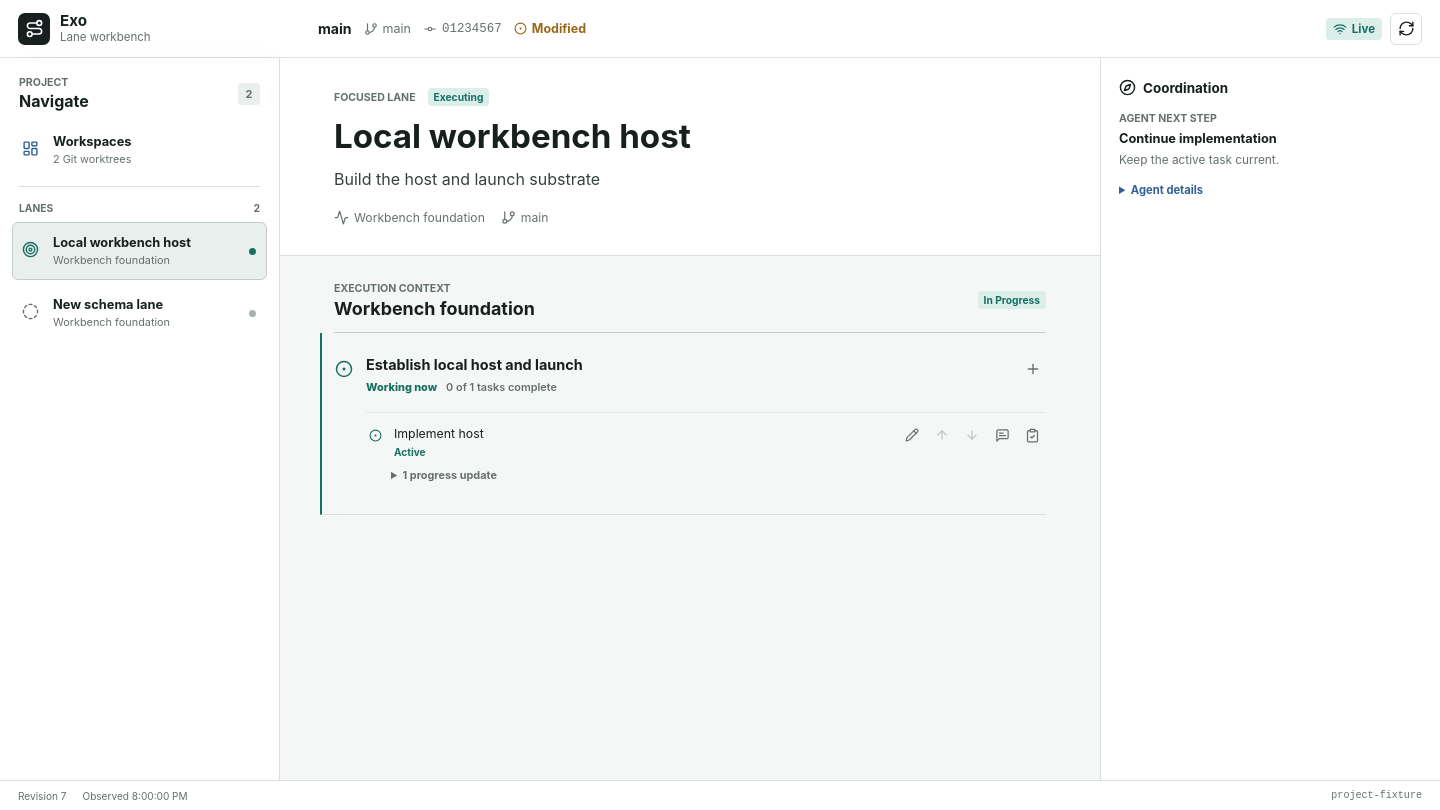
cockpit page › requires a reload when lane inspection uses a newer schema
This screenshot has width=1440, height=810.
Expected: the heading "Local workbench host" is shown, [334,116,691,156]
Click the button with aria-label "Inspect New schema lane, phase in progress".
click(140, 313)  # box [12,284,267,342]
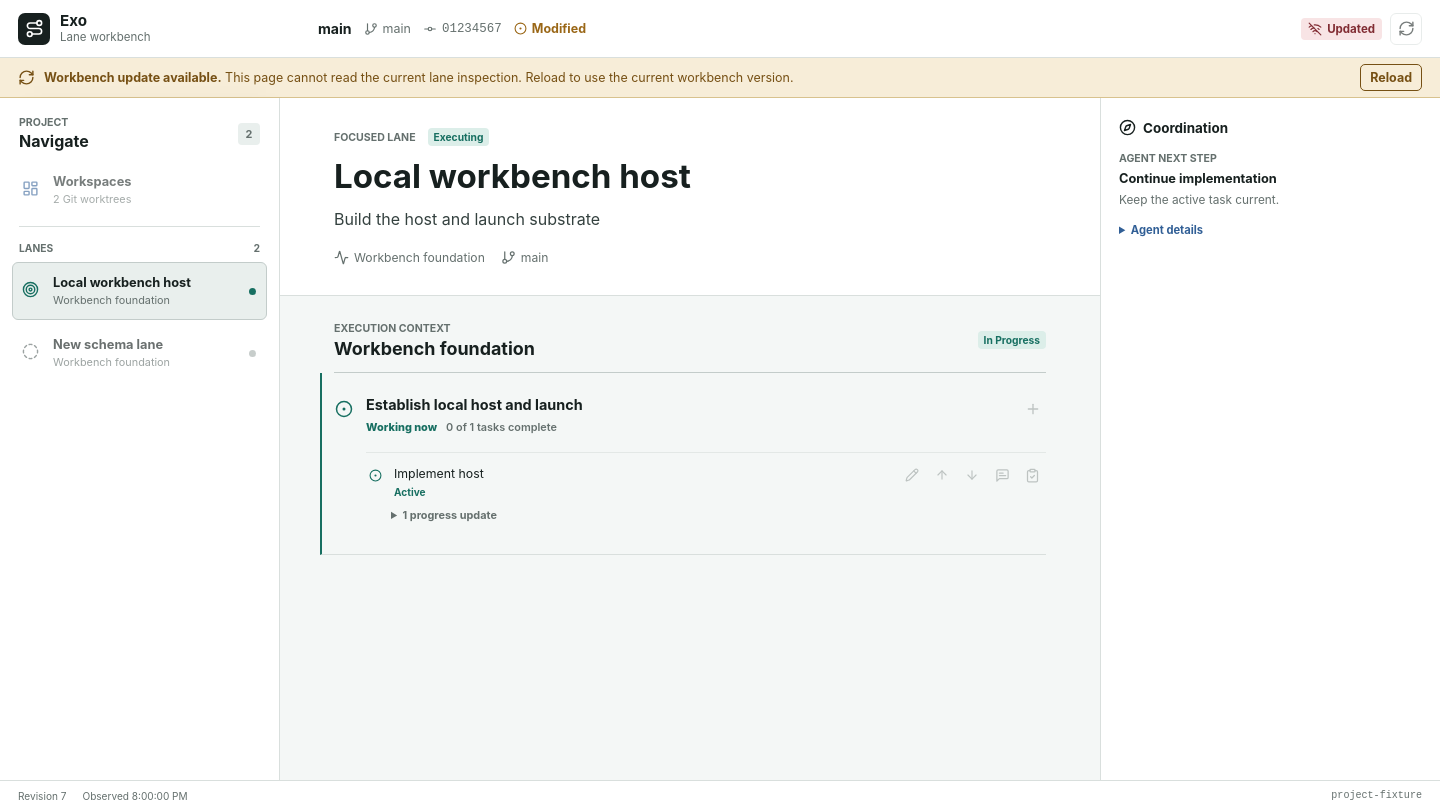
Result: the text "Workbench update available." is shown at [44,70,222,85]
Result: the button "Reload" is shown at [1360,64,1422,91]
